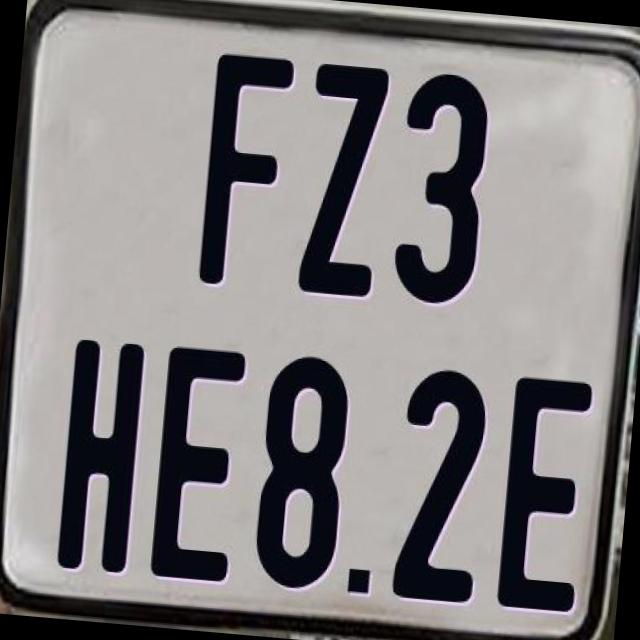2: (389, 363, 492, 608)
3: (388, 70, 492, 316)
8: (251, 352, 357, 594)
E: (145, 342, 249, 585), (496, 374, 598, 614)
F: (196, 49, 296, 294)
H: (54, 338, 144, 572)
Z: (295, 59, 393, 296)
